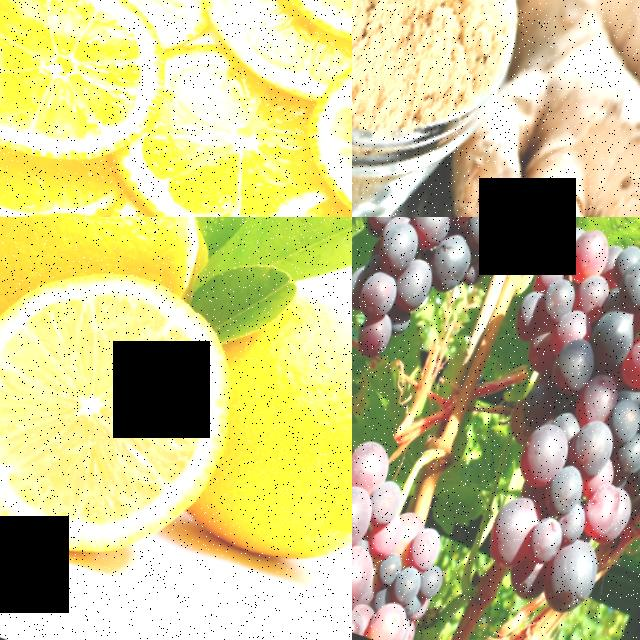ginger: (397, 0, 640, 217), (564, 0, 640, 217)
grapes: (429, 217, 640, 629), (352, 217, 567, 383), (352, 422, 484, 640)
lemon: (0, 250, 271, 580), (119, 35, 327, 217), (0, 0, 187, 179), (0, 217, 217, 289), (293, 25, 352, 217)
peanuts: (197, 284, 352, 593)
